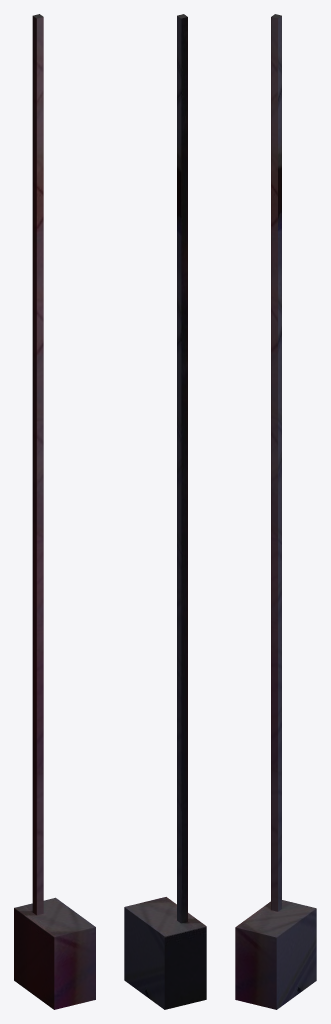
Rendered from antenna_box.glb.
3 views of the same model, side by side, from view 1: azimuth 30°, elevation 25°; view 2: azimuth 210°, elevation 25°; view 3: azimuth 330°, elevation 25° (orthographic).
Visible parts, largest first — view 1: antenna_box; view 2: antenna_box; view 3: antenna_box.
Part boxes in pixels (box(x1,y1,x2,y2)): antenna_box: box(14, 14, 95, 1009); antenna_box: box(124, 14, 206, 1009); antenna_box: box(235, 14, 316, 1009).
Size of the model in its own units: 0.9504 by 21.12 by 1.58.
Materials: 1 (1 with a texture image).
